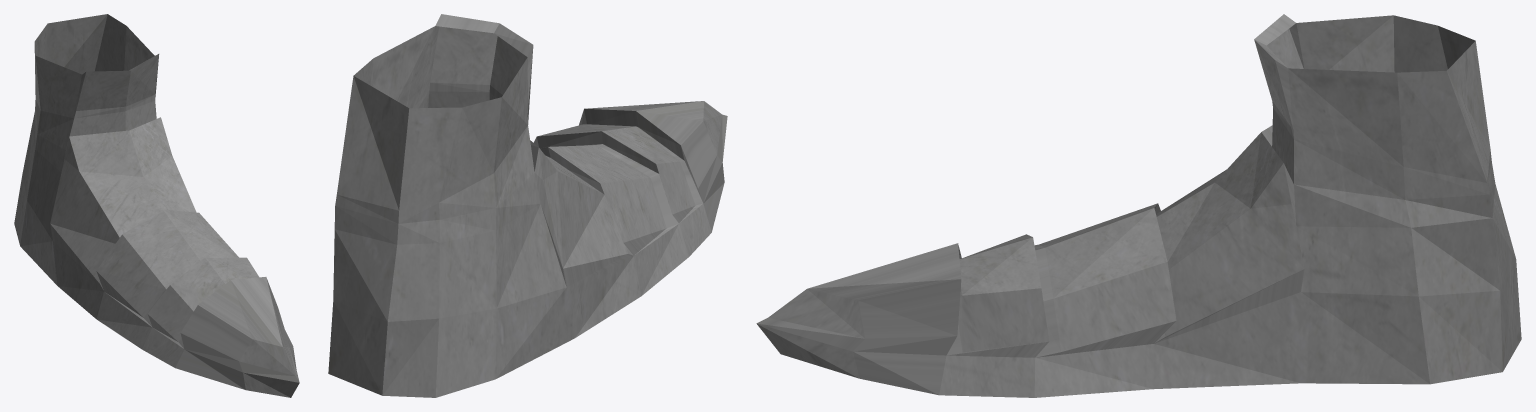
File: knightShoe_R.fbx
The picture shows the model from 3 angles, left to right: view 1: azimuth 30°, elevation 25°; view 2: azimuth 150°, elevation 25°; view 3: azimuth 270°, elevation 25°; orthographic projection. The views are drawn at different scales.
Visible parts, largest first — view 1: polySurface18; view 2: polySurface18; view 3: polySurface18.
Part boxes in pixels (left/top/right/bottom): polySurface18: left=14, top=14, right=299, bottom=397; polySurface18: left=328, top=14, right=727, bottom=397; polySurface18: left=756, top=14, right=1521, bottom=397.
Bounding box in the file's own units: 10.92 × 16.71 × 36.2.
Materials: 1 (1 with a texture image).
